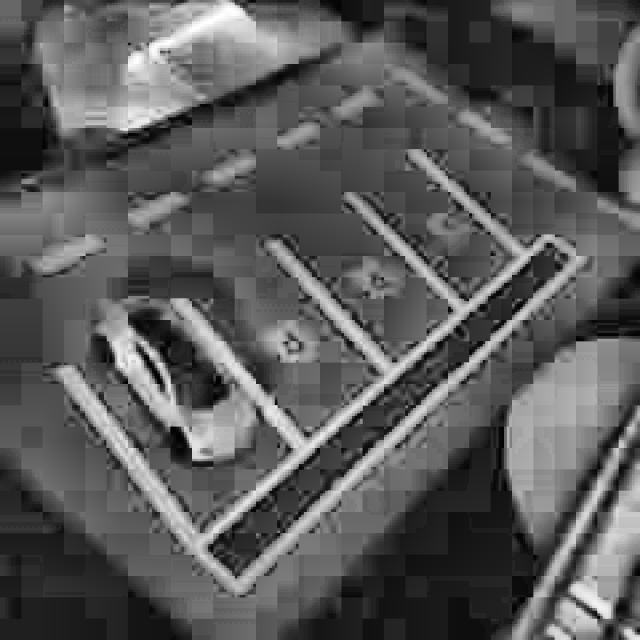car: (80, 290, 265, 486)
